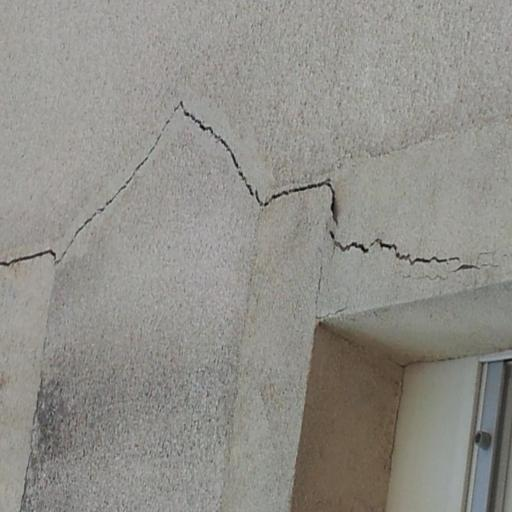spalling: (8, 87, 471, 276)
